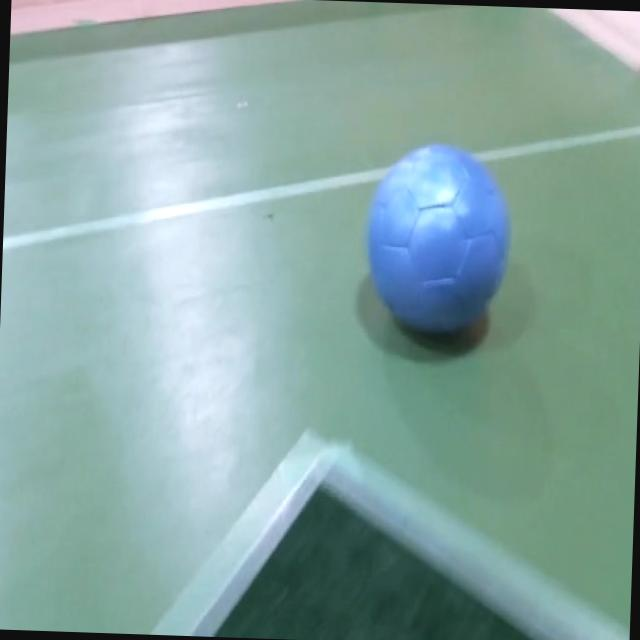blue_ball: (361, 140, 514, 347)
